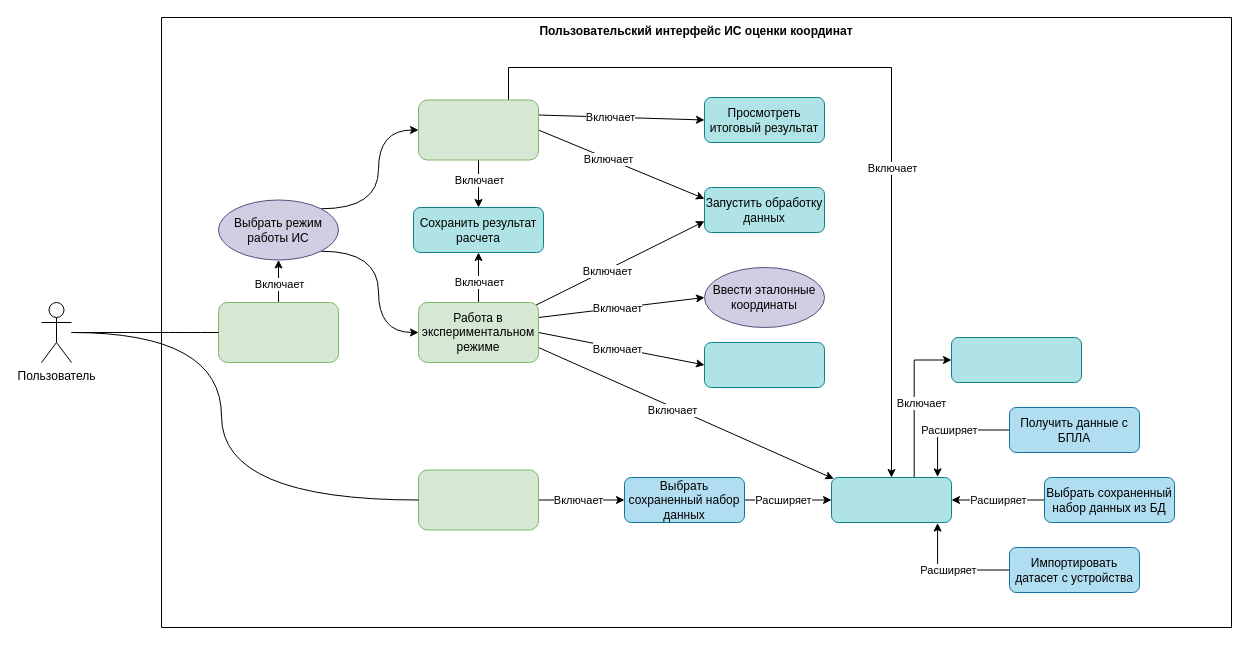
Some shapes in this 1249 by 645 pixel diagram are drawn without their labels. Here are the shapes that lost their labels. From the top down, the box of each, then its label:
(418, 99, 538, 160): Работа в реальном режиме
(218, 302, 338, 362): Начать работу с ИС
(704, 342, 824, 388): Просмотреть результаты оценки точности
(950, 336, 1082, 382): Просмотреть входные данные
(418, 469, 538, 530): Работа с сохраненными данными
(830, 476, 952, 522): Выбрать источник данных
